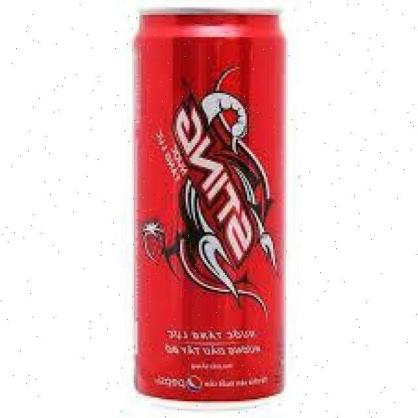can: (131, 6, 288, 407)
